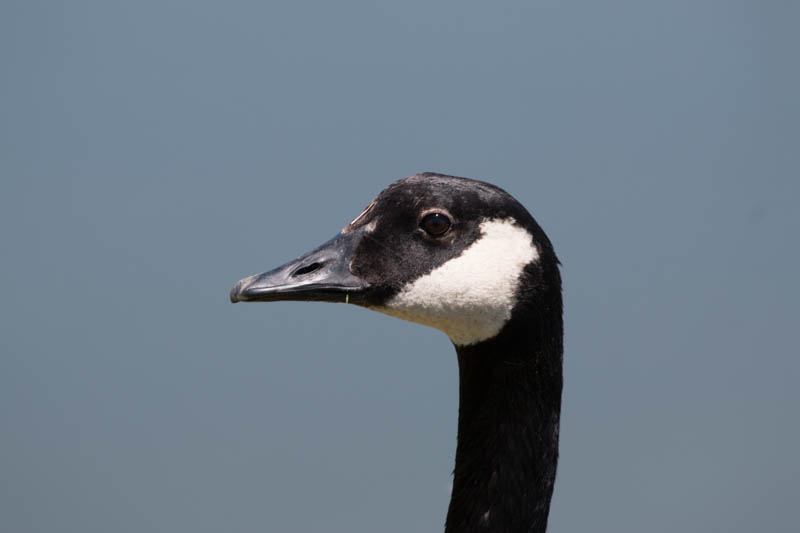goose-head: (229, 173, 564, 346)
